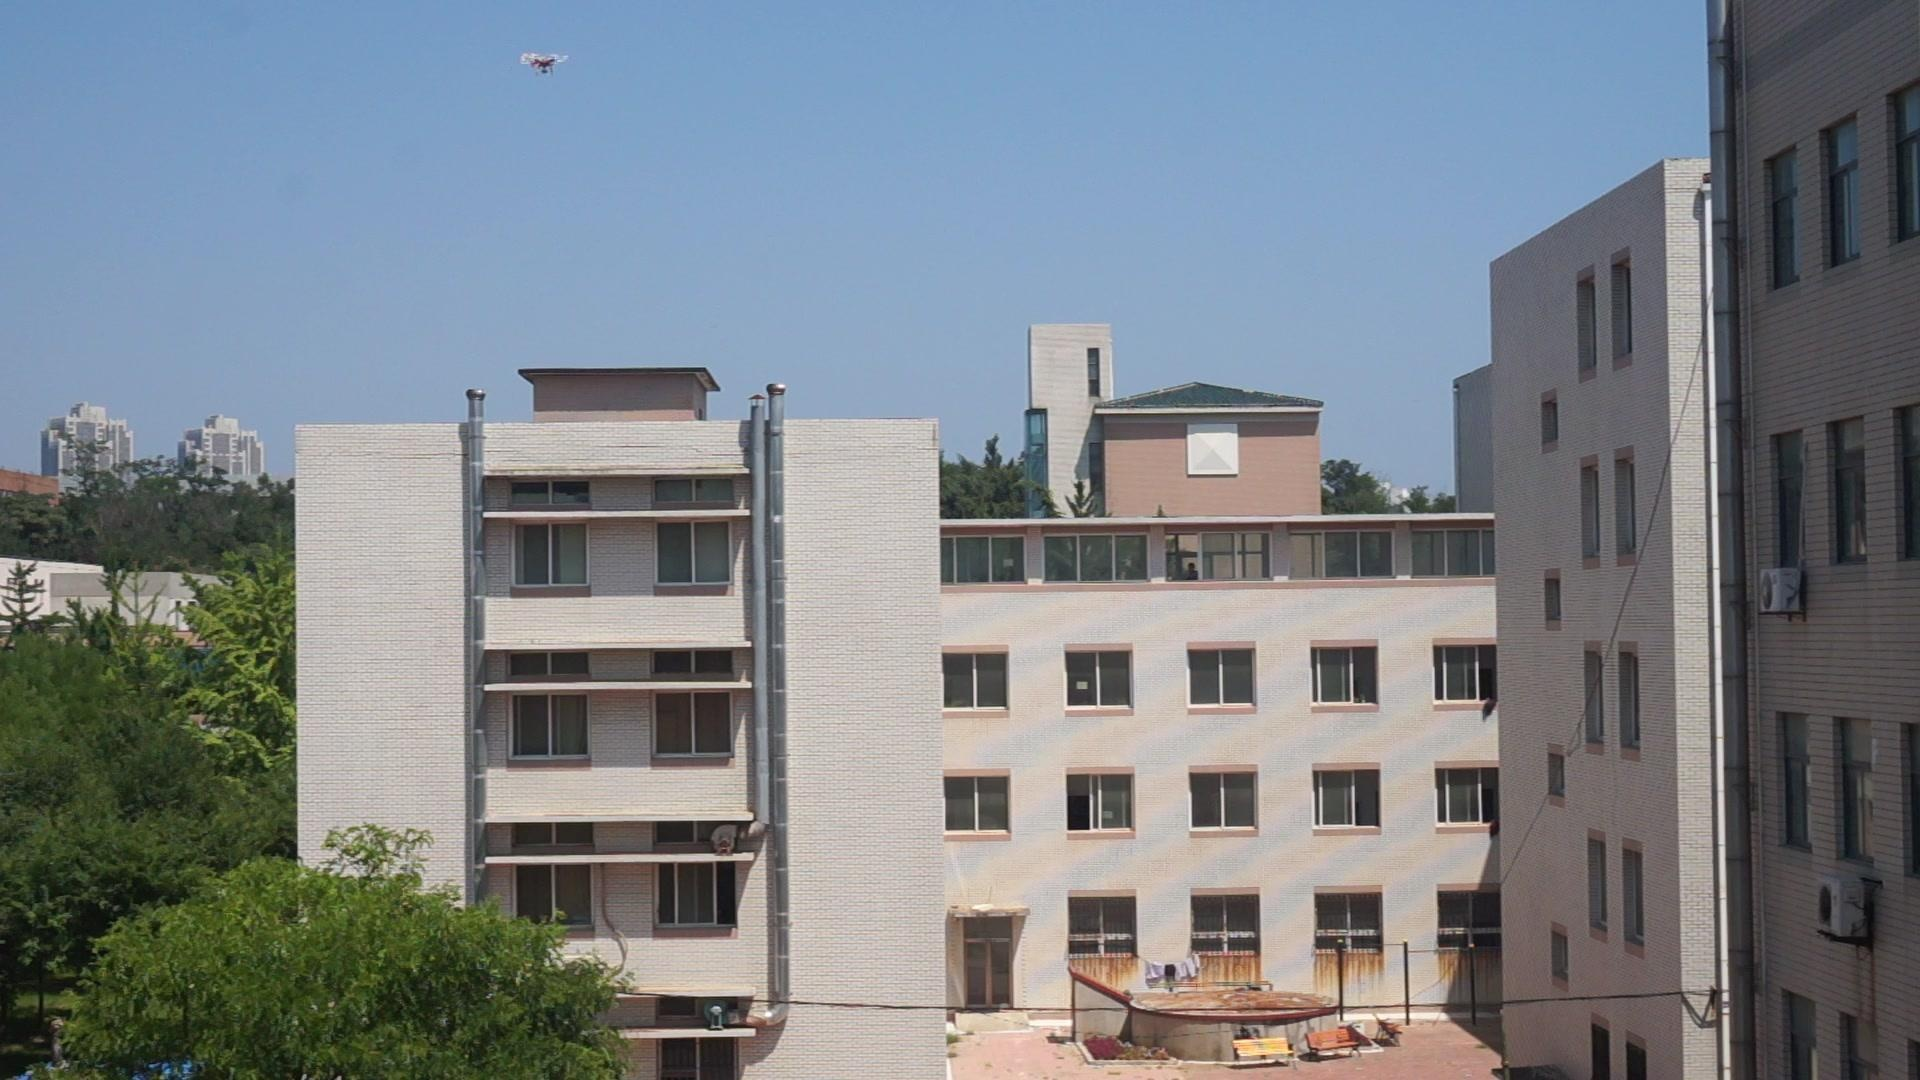UAV: (520, 54, 570, 76)
